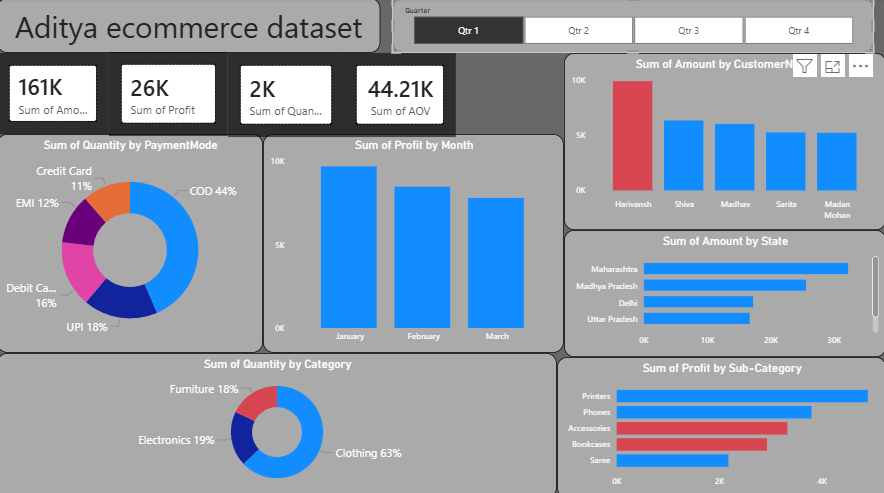

The page's visual inventory and layout, read from the dashboard file:
{"tool":"powerbi","page":{"name":"Page 1","canvas":[1280,720],"ordinal":0},"visuals":[{"type":"textbox","box":[0,0,551.5,79.2],"z":0},{"type":"columnChart","fields":{"Category":["power bi data set 2.Order Date.Variation.Date Hierarchy.Month"],"Y":["Sum(power bi data set 1.Profit)"]},"box":[383,195.8,433.4,315.4],"z":1000},{"type":"barChart","fields":{"Category":["power bi data set 1.Sub-Category"],"Y":["Sum(power bi data set 1.Profit)"]},"box":[806.4,517,473.8,203],"z":2000},{"type":"donutChart","fields":{"Category":["power bi data set 1.Category"],"Y":["Sum(power bi data set 1.Quantity)"]},"box":[0,511.2,806.4,208.8],"z":3000},{"type":"donutChart","fields":{"Y":["Sum(power bi data set 1.Quantity)"],"Category":["power bi data set 1.PaymentMode"]},"box":[0,195.8,383,315.4],"z":4000},{"type":"cardVisual","fields":{"Data":["Sum(power bi data set 1.Amount)"]},"box":[0,79.2,161.3,116.6],"z":5000},{"type":"cardVisual","fields":{"Data":["Sum(power bi data set 1.Profit)"]},"box":[161.3,77.8,171.4,121],"z":6000},{"type":"cardVisual","fields":{"Data":["Sum(power bi data set 1.Quantity)"]},"box":[332.6,79.2,167,121],"z":7000},{"type":"cardVisual","fields":{"Data":["Sum(power bi data set 1.AOV)"]},"box":[499.7,79.2,161.3,121],"z":8000},{"type":"barChart","fields":{"Category":["power bi data set 2.State"],"Y":["Sum(power bi data set 1.Amount)"]},"box":[816.5,334.1,463.7,182.9],"z":9000},{"type":"columnChart","fields":{"Category":["power bi data set 2.CustomerName"],"Y":["Sum(power bi data set 1.Amount)"]},"box":[816.5,79.2,463.7,254.9],"z":10000},{"type":"slicer","fields":{"Values":["power bi data set 2.Order Date.Variation.Date Hierarchy.Quarter"]},"box":[568.8,0,694.1,79.2],"z":11000}]}

Visuals, with their boxes in screenshot pixels (x1, y1, x2, y2), scaled from the page's 1280x720 canvas onto the 884x493 screenshot:
textbox: box(0, 0, 381, 54)
columnChart - power bi data set 2.Order Date.Variation.Date Hierarchy.Month x Sum(power bi data set 1.Profit): box(265, 134, 564, 350)
barChart - power bi data set 1.Sub-Category x Sum(power bi data set 1.Profit): box(557, 354, 883, 492)
donutChart - power bi data set 1.Category x Sum(power bi data set 1.Quantity): box(0, 350, 557, 492)
donutChart - Sum(power bi data set 1.Quantity) x power bi data set 1.PaymentMode: box(0, 134, 265, 350)
cardVisual - Sum(power bi data set 1.Amount): box(0, 54, 111, 134)
cardVisual - Sum(power bi data set 1.Profit): box(111, 53, 230, 136)
cardVisual - Sum(power bi data set 1.Quantity): box(230, 54, 345, 137)
cardVisual - Sum(power bi data set 1.AOV): box(345, 54, 457, 137)
barChart - power bi data set 2.State x Sum(power bi data set 1.Amount): box(564, 229, 883, 354)
columnChart - power bi data set 2.CustomerName x Sum(power bi data set 1.Amount): box(564, 54, 883, 229)
slicer - power bi data set 2.Order Date.Variation.Date Hierarchy.Quarter: box(393, 0, 872, 54)
